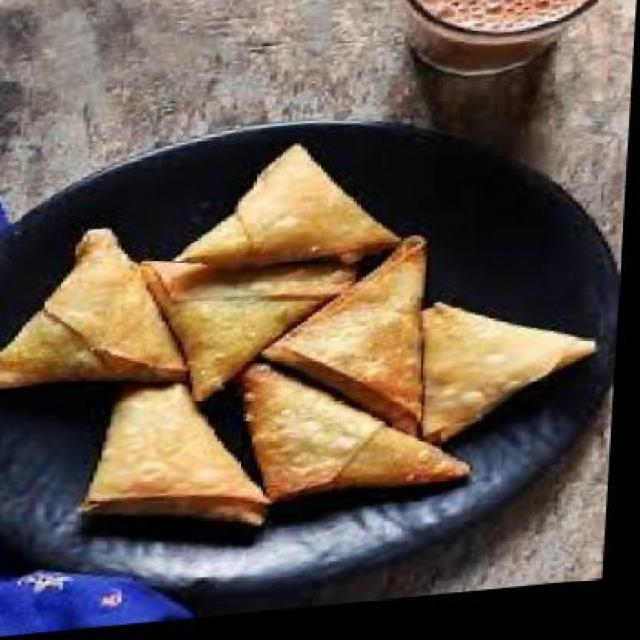samosa: (242, 352, 482, 506), (266, 245, 436, 457), (142, 249, 364, 411), (0, 224, 198, 397), (91, 374, 283, 541), (177, 143, 405, 282), (423, 300, 603, 452)
